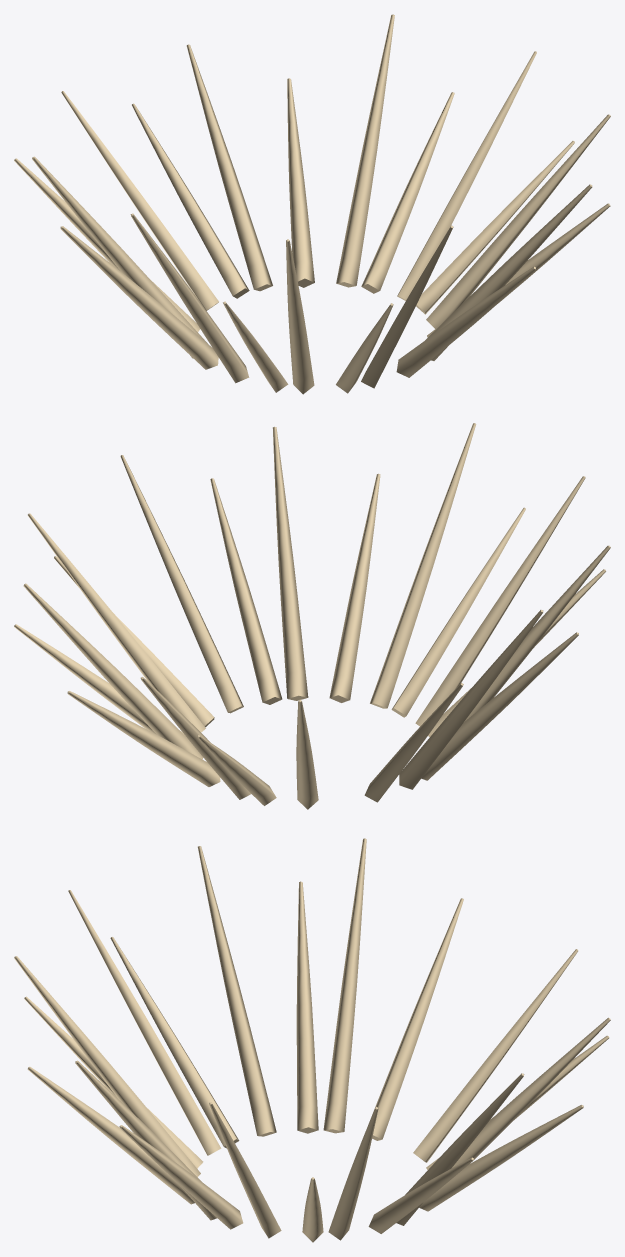
The model's file is outback-and-australian-wildlife-spinifex-clump-9db0e241__5934.glb.
3 views of the same model, one above another, from view 1: azimuth 30°, elevation 25°; view 2: azimuth 150°, elevation 25°; view 3: azimuth 270°, elevation 25° (orthographic).
Parts seen in each view (by area): view 1: spinifex-clump; view 2: spinifex-clump; view 3: spinifex-clump.
Part boxes in pixels (left/top/right/bottom): spinifex-clump: left=14, top=14, right=610, bottom=394; spinifex-clump: left=14, top=423, right=610, bottom=809; spinifex-clump: left=14, top=838, right=610, bottom=1242.
Size of the model in its own units: 0.8433 by 0.3533 by 0.8421.
